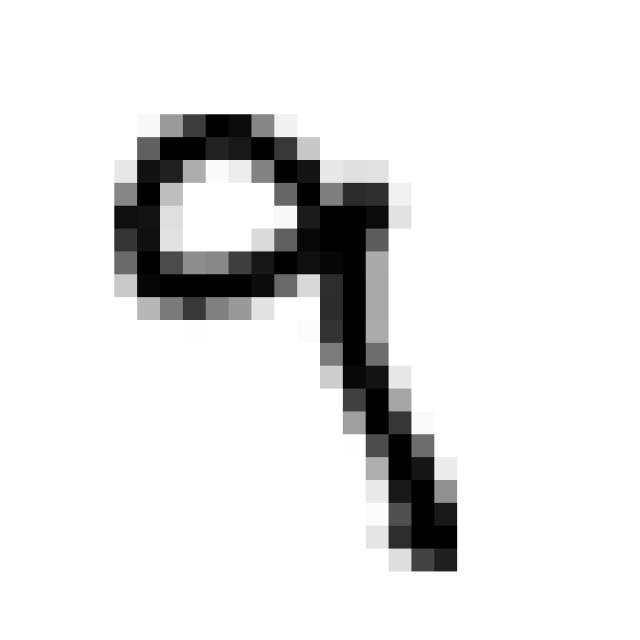9 -nine-: (87, 89, 472, 592)
